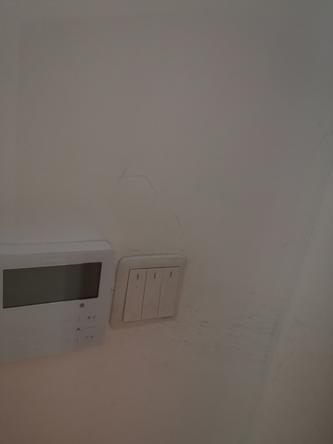switch: (120, 264, 148, 322), (158, 265, 181, 317), (143, 265, 162, 322)
